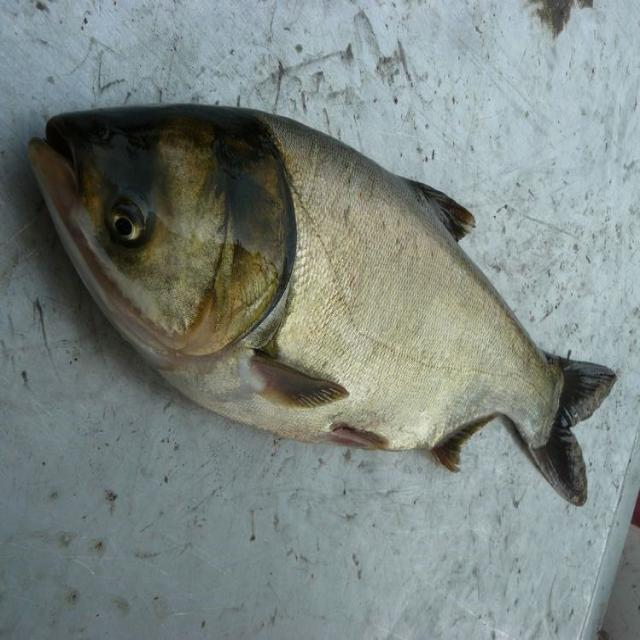Big-Head-Carp: (14, 41, 626, 575)
